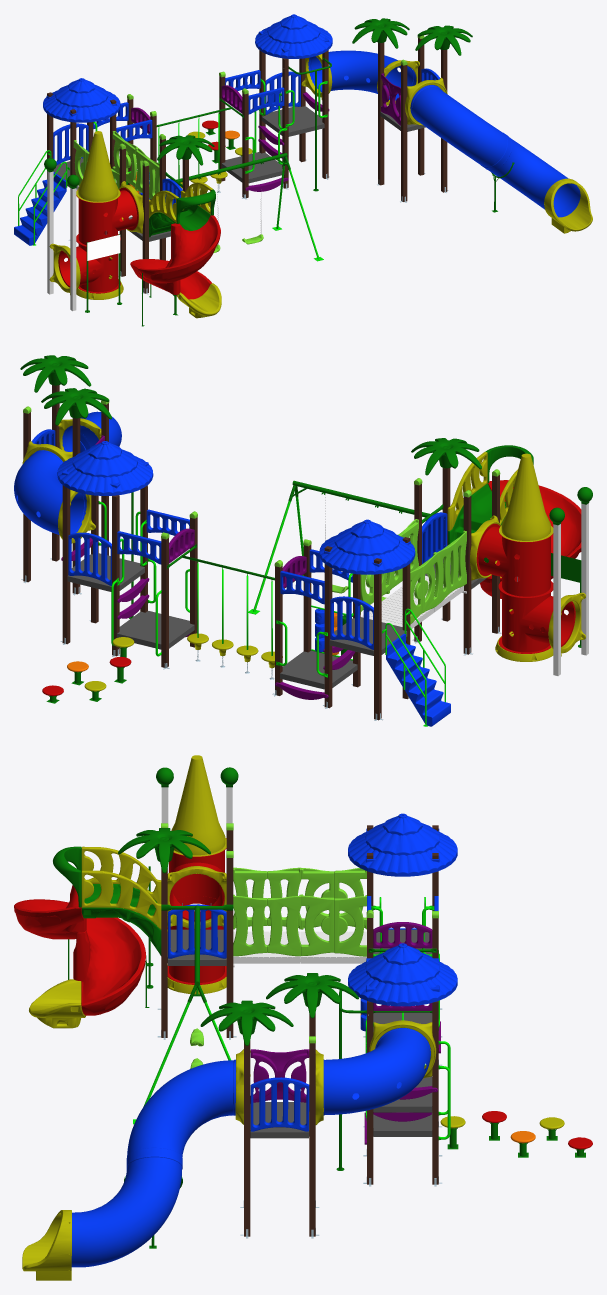
3 views of the same model, one above another, from view 1: azimuth 30°, elevation 25°; view 2: azimuth 150°, elevation 25°; view 3: azimuth 270°, elevation 25° (orthographic). The views are drawn at different scales.
Visible parts, largest first — view 1: object 30, object 33, object 46, TOLDO M2, TOLDO M2.001, object 40, PLATAFORMA M1.008, PLATAFORMA M1, COQUEIRO M1.001, COQUEIRO M1.002, COQUEIRO M1.003, COLUNA MAD PLAST 9 X 9CM.043 (+21 smaller); view 2: object 30, object 33, object 46, TOLDO M2, TOLDO M2.001, object 40, PLATAFORMA M1, PLATAFORMA M1.002, FECHAMENTO M1.003, FECHAMENTO M1, COQUEIRO M1.003, COQUEIRO M1.002 (+32 smaller); view 3: object 30, object 33, object 46, TOLDO M2, TOLDO M2.001, object 40, LATERAL M1, FECHAMENTO M1.002, object 51, COQUEIRO M1.003, COQUEIRO M1.002, COQUEIRO M1.001 (+12 smaller).
Boxes of the visible parts, box(x1,y1,x2,y2) form: object 30: box(14, 50, 592, 318); object 33: box(58, 109, 260, 299); object 46: box(73, 131, 290, 200); TOLDO M2: box(255, 14, 332, 58); TOLDO M2.001: box(43, 78, 120, 122); object 40: box(44, 158, 215, 326); PLATAFORMA M1.008: box(261, 106, 324, 136); PLATAFORMA M1: box(221, 152, 284, 183); COQUEIRO M1.001: box(157, 135, 214, 165); COQUEIRO M1.002: box(352, 18, 409, 48); COQUEIRO M1.003: box(415, 25, 472, 55); COLUNA MAD PLAST 9 X 9CM.043: box(401, 64, 407, 201); object 30: box(14, 411, 585, 726); object 33: box(42, 480, 581, 703); object 46: box(288, 480, 466, 624); TOLDO M2: box(57, 441, 153, 495); TOLDO M2.001: box(319, 519, 415, 574); object 40: box(448, 445, 592, 634); PLATAFORMA M1: box(117, 611, 194, 649); PLATAFORMA M1.002: box(280, 650, 357, 689); FECHAMENTO M1.003: box(68, 532, 111, 585); FECHAMENTO M1: box(330, 596, 373, 649); COQUEIRO M1.003: box(20, 355, 91, 392); COQUEIRO M1.002: box(41, 388, 111, 425); object 30: box(22, 755, 564, 1280); object 33: box(14, 838, 592, 1157); object 46: box(161, 867, 366, 1002); TOLDO M2: box(348, 943, 457, 1006); TOLDO M2.001: box(348, 813, 457, 876); object 40: box(53, 767, 238, 1007); LATERAL M1: box(81, 870, 161, 929); FECHAMENTO M1.002: box(250, 1077, 309, 1131); object 51: box(233, 931, 366, 967); COQUEIRO M1.003: box(200, 1000, 293, 1045); COQUEIRO M1.002: box(266, 973, 358, 1018); COQUEIRO M1.001: box(118, 828, 210, 873).
Size of the model in its own units: 10.94 by 3.51 by 8.06.
61 materials, 2 textured.
